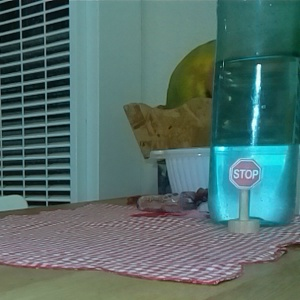stop sign: (226, 155, 264, 236)
